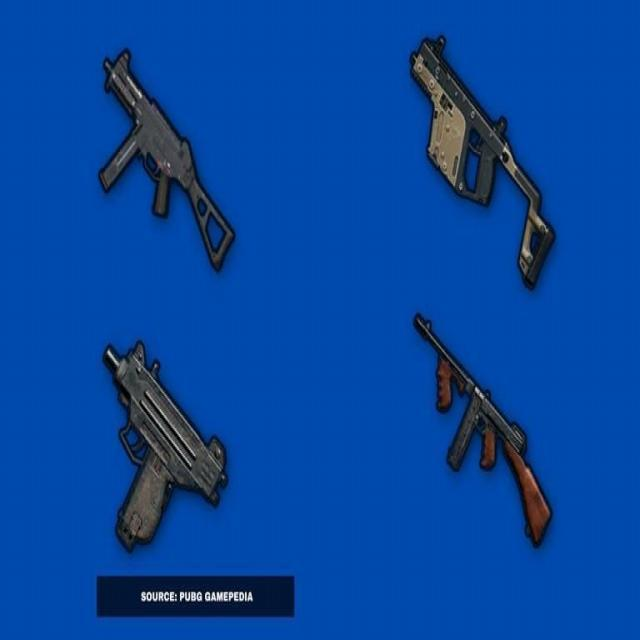smg: (404, 27, 559, 293), (406, 313, 553, 561), (94, 43, 244, 277), (96, 333, 232, 558)
